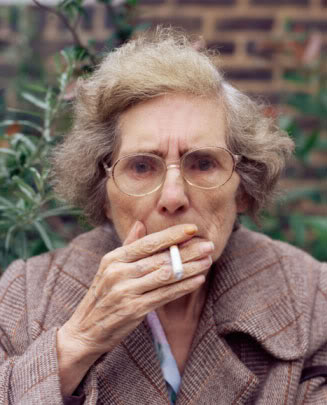cigarette: (165, 237, 187, 284)
